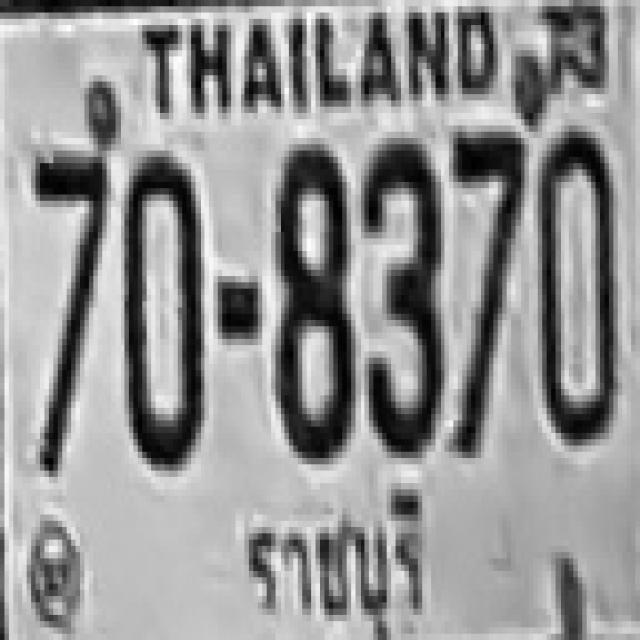0: (120, 151, 200, 464), (534, 126, 614, 439)
3: (360, 132, 440, 452)
7: (31, 148, 107, 461), (449, 126, 520, 427), (449, 125, 520, 332)
8: (271, 141, 351, 455)
RBR: (232, 481, 440, 640)
